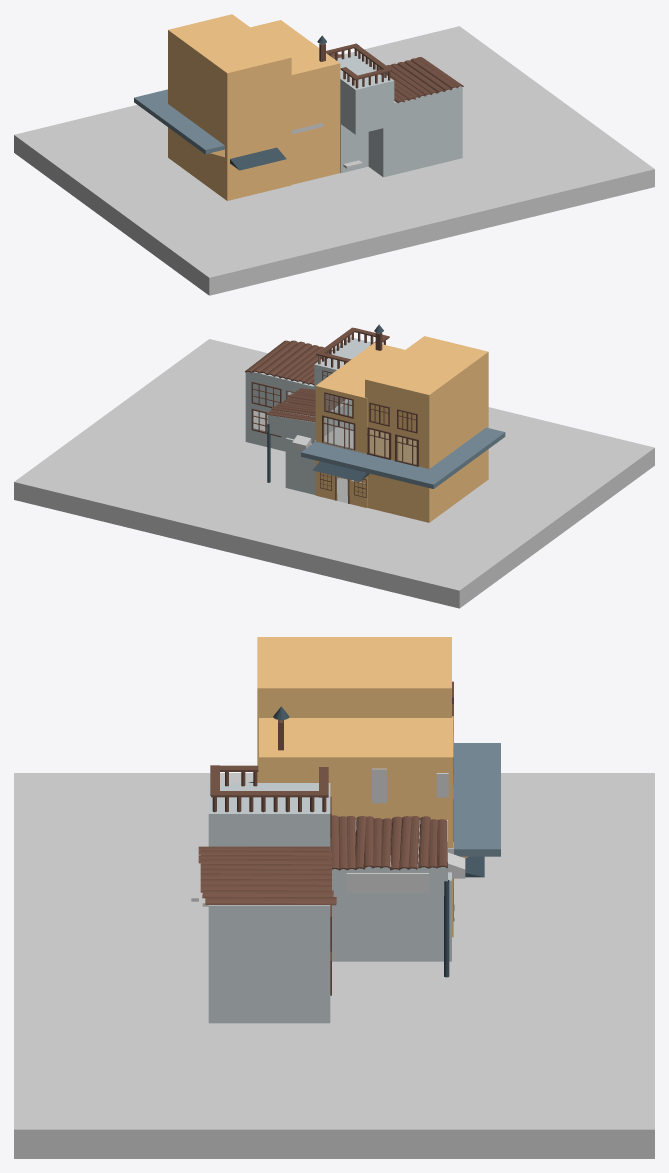
The model's file is scene_GkfrLy1uFT.glb.
3 views of the same model, one above another, from view 1: azimuth 30°, elevation 25°; view 2: azimuth 150°, elevation 25°; view 3: azimuth 270°, elevation 25° (orthographic). The views are drawn at different scales.
Visible parts, largest first — view 1: group264013782, group1395071527, group641183354, group201010314, group982330768, group20093495, group348999677, group97166357, group2126195212; view 2: group264013782, group1395071527, group641183354, group2126195212, group201010314, group20093495, group348999677, group689833853, group982330768, group1080127028, group555903793, group805729245; view 3: group264013782, group641183354, group1395071527, group201010314, group348999677, group982330768, group2126195212, group689833853, group896609460, group1676137314, group907069758, group1370488769 (+4 smaller).
Boxes of the visible parts, <box> form: group264013782: <box>14,26,654,295</box>; group1395071527: <box>168,14,291,200</box>; group641183354: <box>250,20,340,184</box>; group201010314: <box>368,59,462,177</box>; group982330768: <box>334,53,394,134</box>; group20093495: <box>148,104,224,154</box>; group348999677: <box>340,124,368,173</box>; group97166357: <box>230,147,286,170</box>; group2126195212: <box>134,89,167,112</box>; group264013782: <box>14,339,654,608</box>; group1395071527: <box>365,336,488,522</box>; group641183354: <box>315,342,416,507</box>; group2126195212: <box>301,442,448,488</box>; group201010314: <box>245,365,314,451</box>; group20093495: <box>416,427,505,477</box>; group348999677: <box>285,424,353,494</box>; group689833853: <box>267,399,351,443</box>; group982330768: <box>314,337,370,389</box>; group1080127028: <box>312,461,369,481</box>; group555903793: <box>322,415,355,450</box>; group805729245: <box>314,427,365,453</box>; group264013782: <box>14,773,654,1158</box>; group641183354: <box>259,716,453,937</box>; group1395071527: <box>257,637,451,782</box>; group201010314: <box>208,859,330,1023</box>; group348999677: <box>332,872,451,961</box>; group982330768: <box>208,783,330,849</box>; group2126195212: <box>454,743,500,856</box>; group689833853: <box>332,820,447,895</box>; group896609460: <box>346,873,428,892</box>; group1676137314: <box>205,896,336,905</box>; group907069758: <box>202,890,333,898</box>; group1370488769: <box>200,884,331,892</box>.
Size of the model in its own units: 2.25 by 0.7404 by 1.71.
